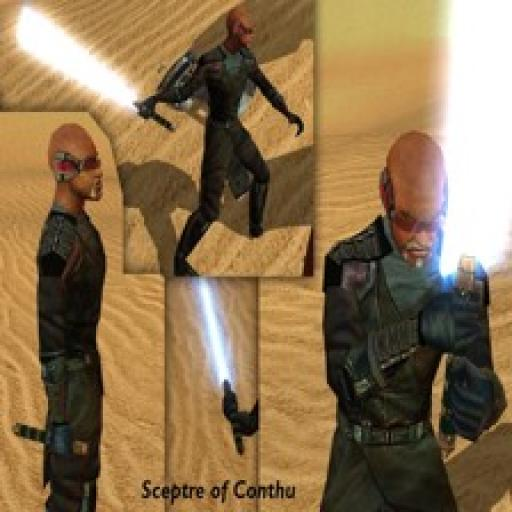lightsaber: (435, 16, 495, 458), (18, 5, 176, 132), (191, 274, 250, 462), (14, 422, 93, 452)
